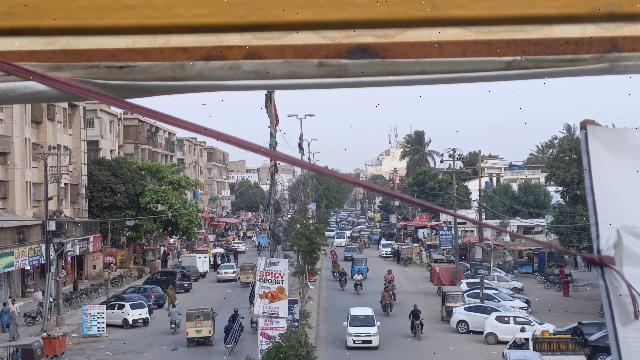Bike: (410, 317, 426, 340), (351, 279, 365, 298), (224, 336, 236, 357), (382, 300, 394, 319), (338, 276, 347, 293), (170, 318, 178, 336)
Car: (483, 309, 551, 345), (449, 300, 510, 337), (341, 304, 382, 352), (104, 300, 151, 329), (145, 268, 193, 294), (213, 262, 241, 281)
Person: (222, 317, 237, 337), (167, 303, 182, 320), (230, 306, 243, 325), (408, 304, 424, 319), (380, 286, 394, 302), (336, 266, 350, 280), (352, 270, 365, 282)
Rickshaw: (183, 304, 219, 351), (437, 283, 465, 321), (239, 262, 257, 286)
Suzuki: (501, 328, 590, 360)
